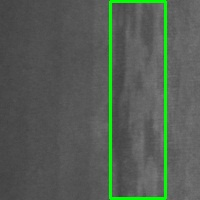inclusion: (110, 1, 165, 198)
